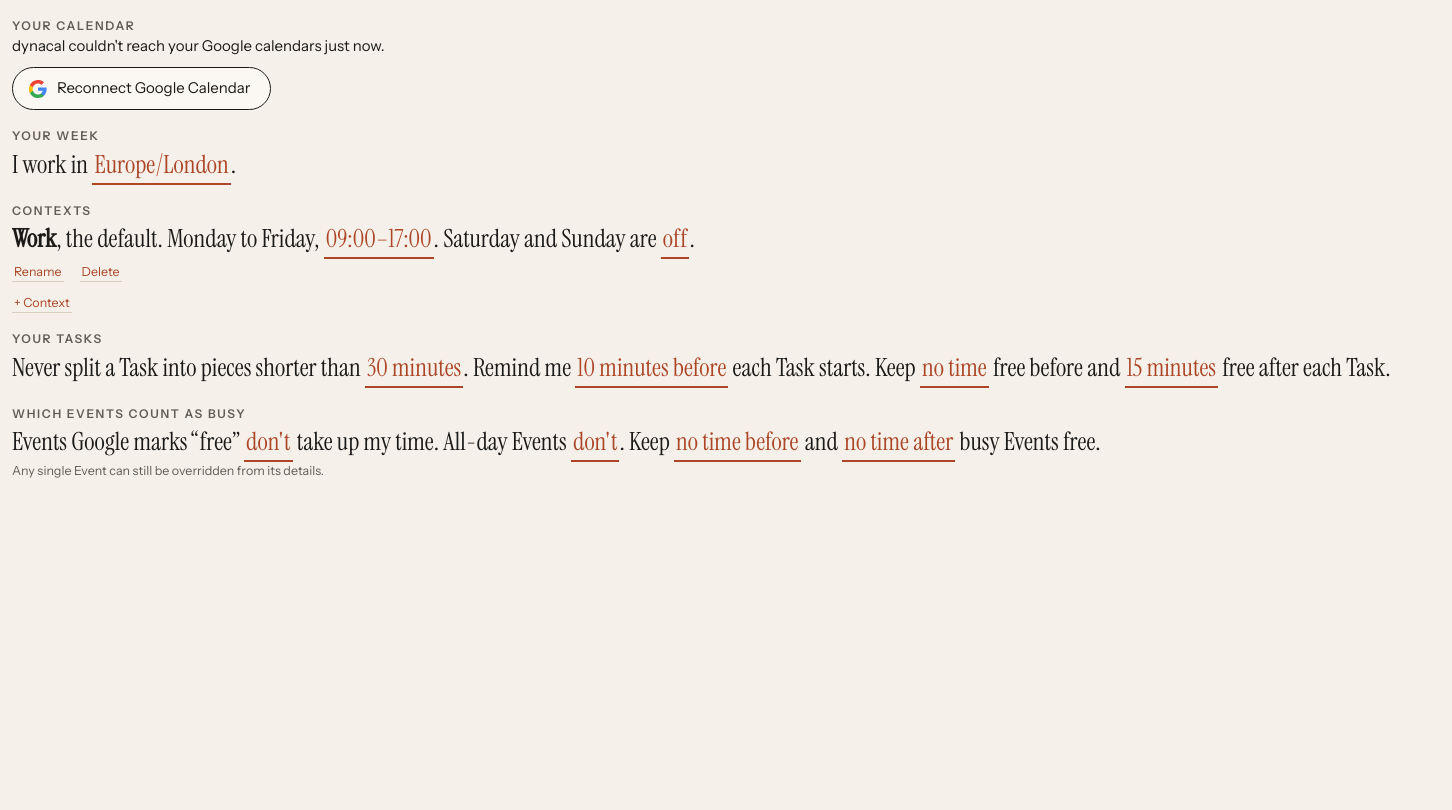
Contexts in prose Settings › saves an edited run for every weekday
Click the button "09:00–17:00" at (379, 239), box [324,219,434,259]
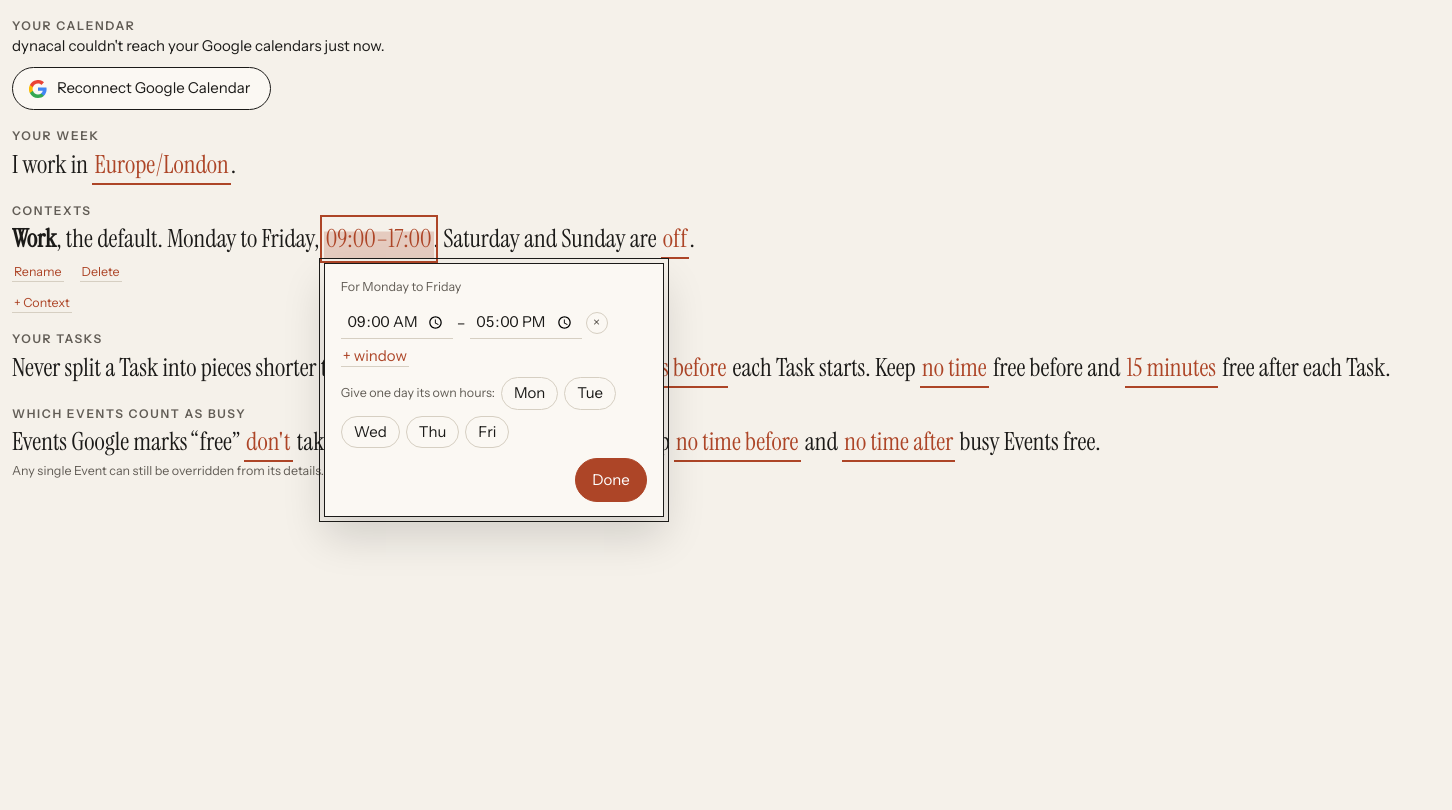
Replace the text in the time field named "Monday to Friday window 1 end" with "16:00" at (526, 323), box [470,307,582,339]
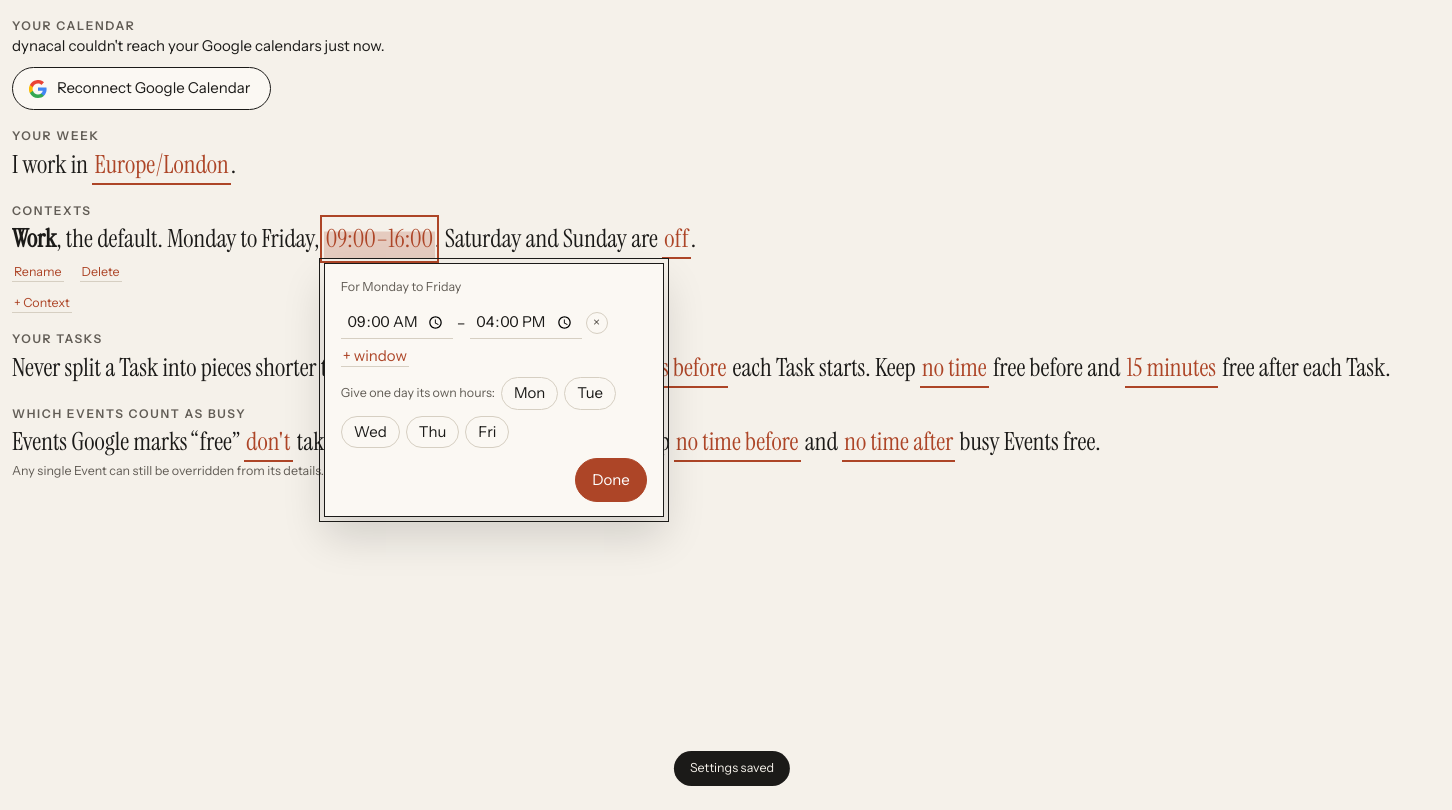
Check: the message reads "Settings saved", box [690,760,774,775]
